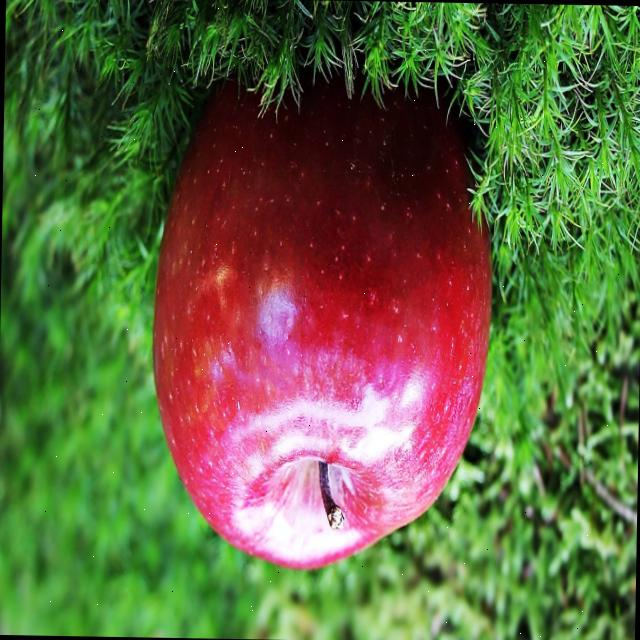Apel: (148, 53, 497, 575)
